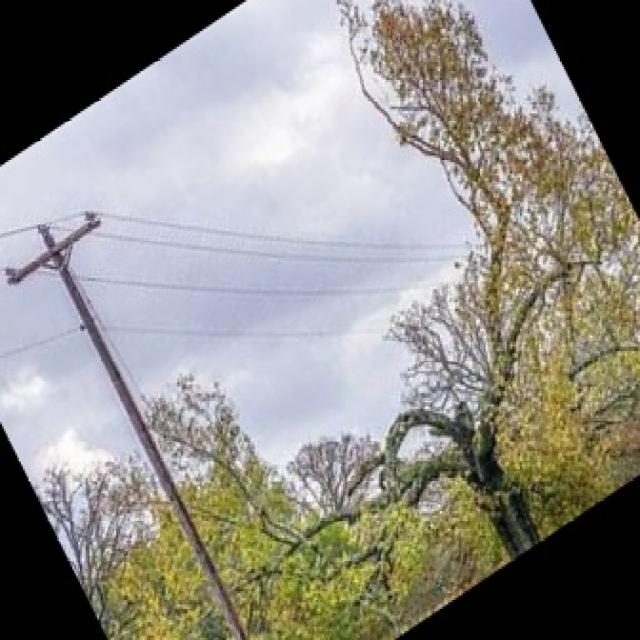utility poles: (25, 218, 270, 640)
